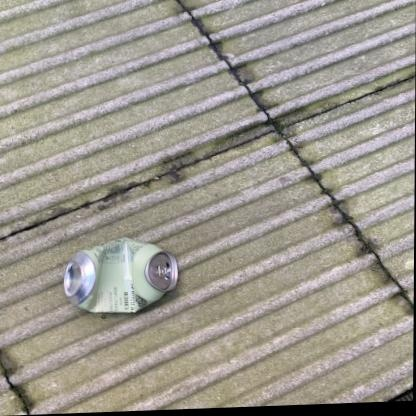trash: (64, 238, 177, 312)
